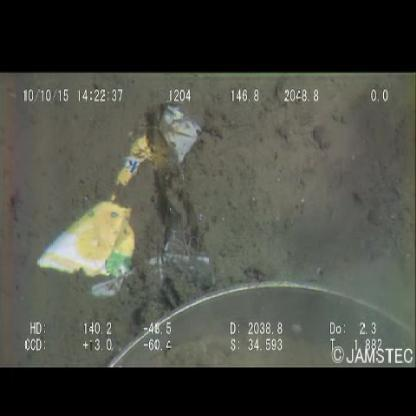Rác: (37, 103, 202, 282)
